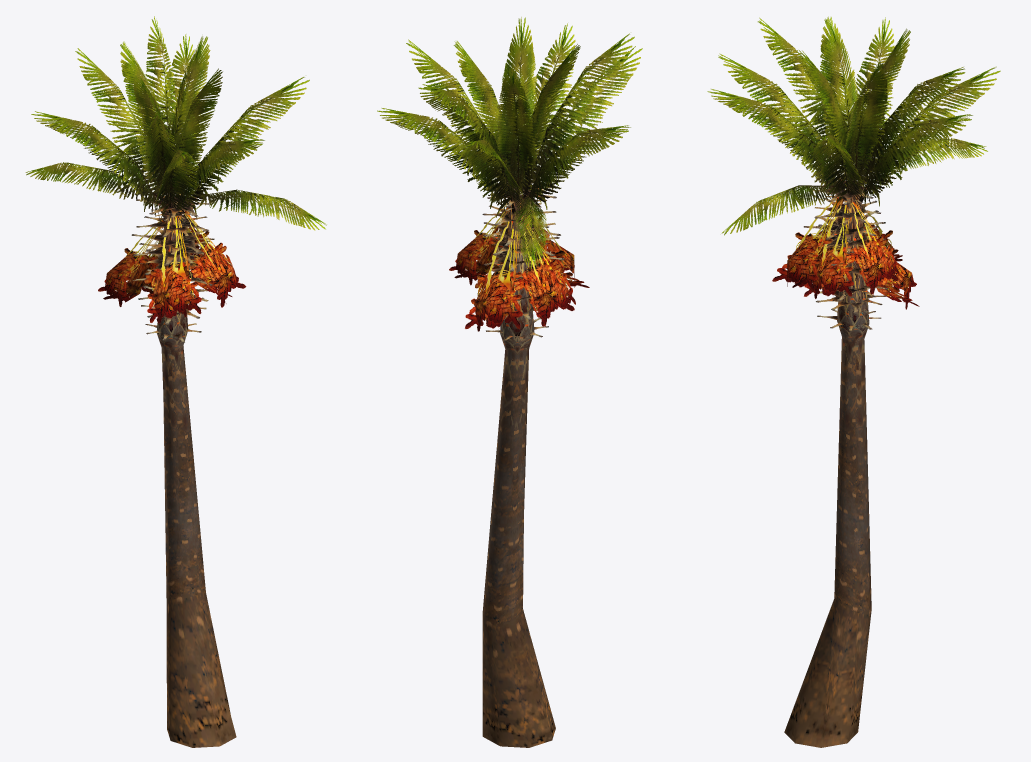
File: palm_date_fruit_2.glb
3 renders of one model, left to right at view 1: azimuth 30°, elevation 25°; view 2: azimuth 150°, elevation 25°; view 3: azimuth 270°, elevation 25°, orthographic. The views are drawn at different scales.
Bounding box in the file's own units: 9.41 × 22.37 × 9.57.
1 material, 1 textured.
